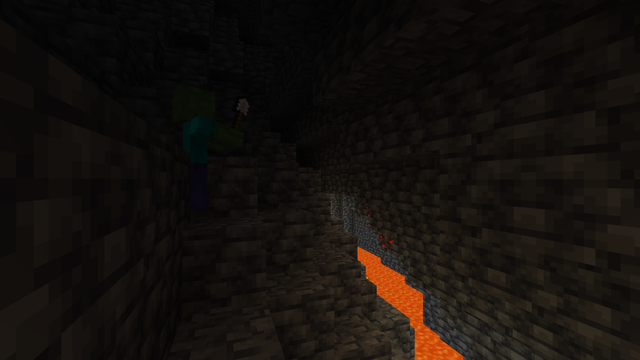zombies: (166, 86, 213, 221)
